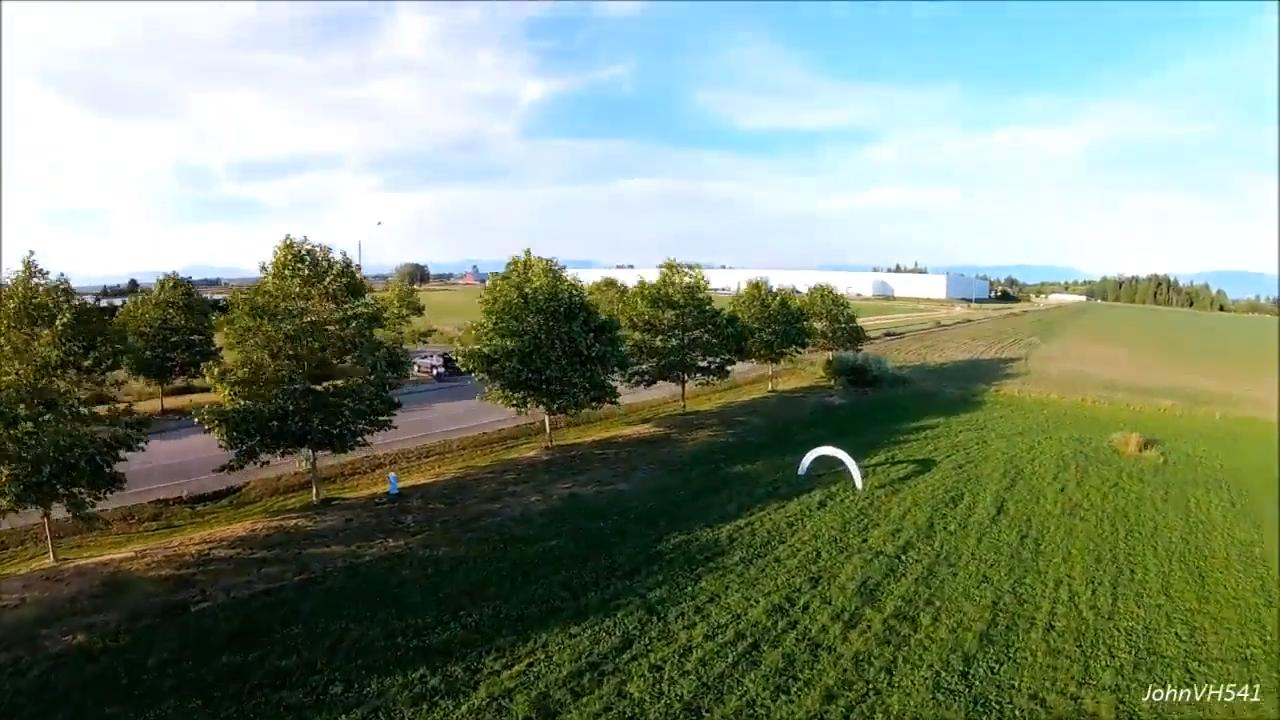gate: (796, 444, 863, 494)
